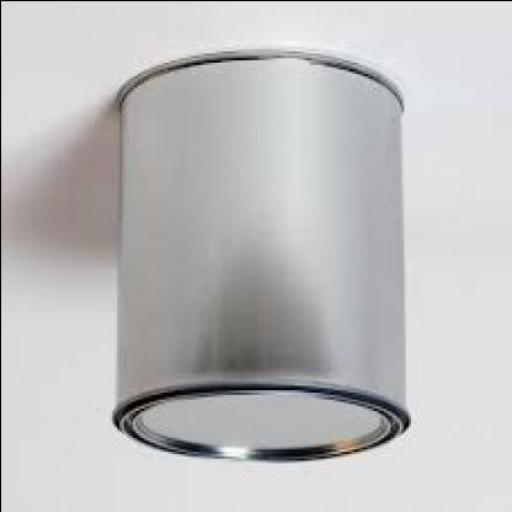metal: (114, 54, 414, 464)
